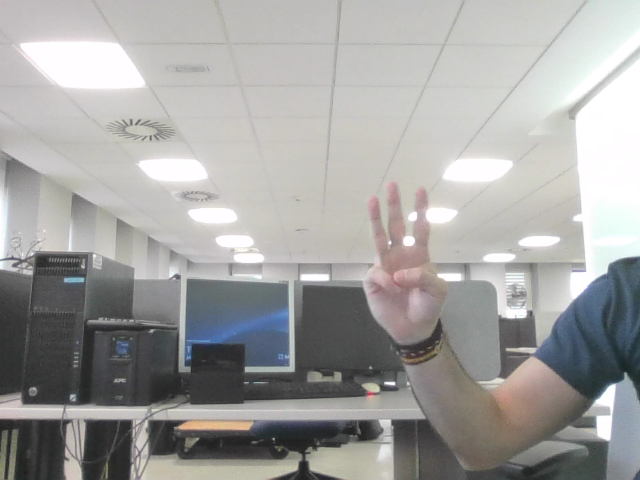3Dedos: (374, 194, 435, 309)
